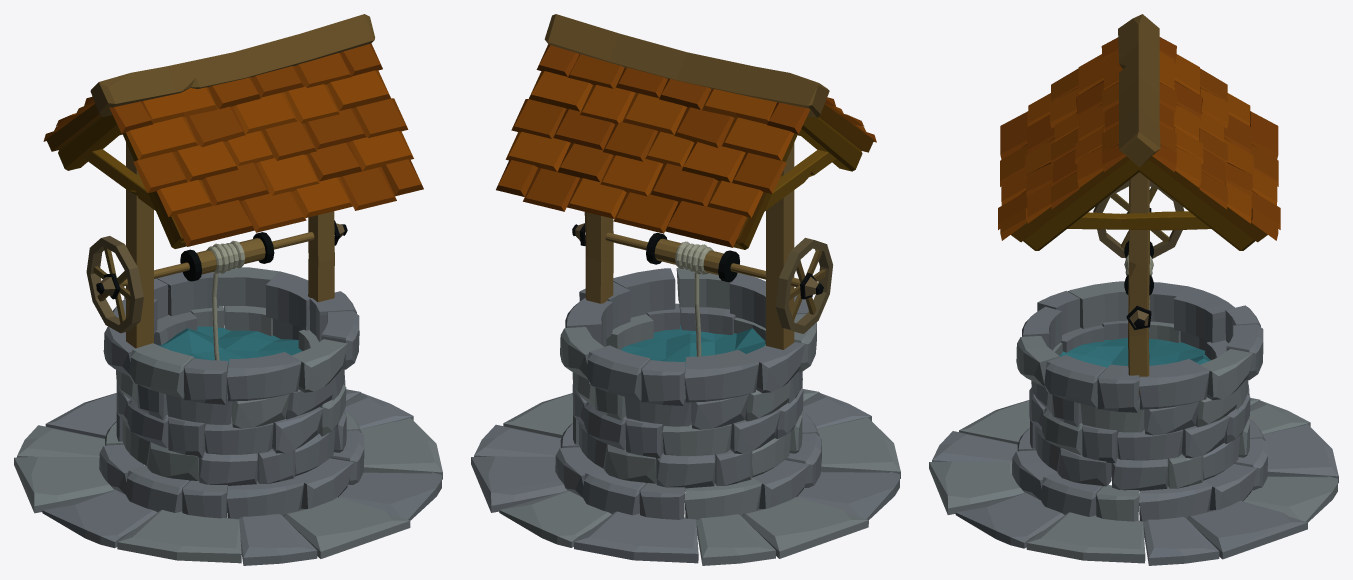
Rendered from SM_Puit.glb.
3 views of the same model, side by side, from view 1: azimuth 30°, elevation 25°; view 2: azimuth 150°, elevation 25°; view 3: azimuth 270°, elevation 25° (orthographic). The views are drawn at different scales.
Parts seen in each view (by area): view 1: SM_Well; view 2: SM_Well; view 3: SM_Well.
Part boxes in pixels (bbox=[...]): SM_Well: bbox=[14, 14, 442, 565]; SM_Well: bbox=[471, 14, 900, 565]; SM_Well: bbox=[929, 14, 1338, 565].
Size of the model in its own units: 3.53 by 3.84 by 3.49.
2 materials, 2 textured.
